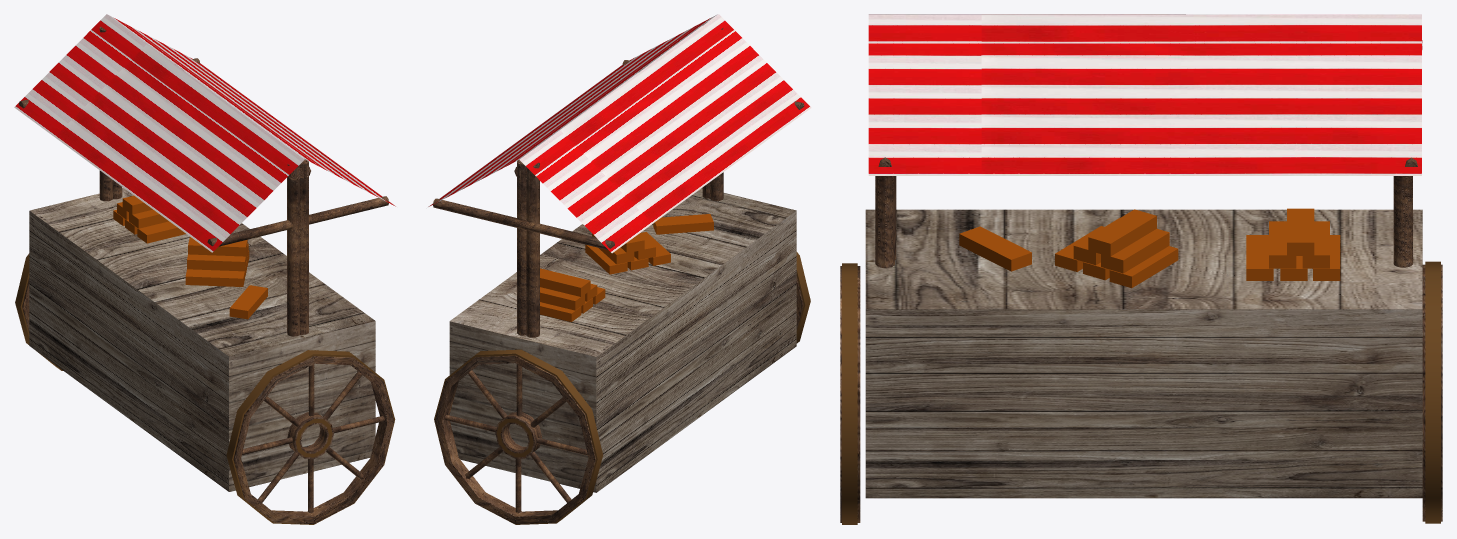
The model's file is Market Building.FBX.
3 views of the same model, side by side, from view 1: azimuth 30°, elevation 25°; view 2: azimuth 150°, elevation 25°; view 3: azimuth 270°, elevation 25° (orthographic). The views are drawn at different scales.
Visible parts, largest first — view 1: Box001, Plane003, Tube001, Plane002, Tube003, Cylinder001, Cylinder007, Cylinder004, Tube002, Box010, Box011, Box014 (+4 smaller); view 2: Box001, Plane003, Tube004, Plane002, Tube006, Cylinder002, Cylinder008, Cylinder003, Tube005, Box014, Box007, Box006 (+3 smaller); view 3: Box001, Plane002, Tube006, Tube003, Box013, Box014, Cylinder004, Cylinder003, Tube004, Tube001, Box012, Box007 (+5 smaller).
Part boxes in pixels (left/top/right/bottom): Box001: left=29, top=187, right=375, bottom=491; Plane003: left=14, top=14, right=304, bottom=252; Tube001: left=233, top=356, right=394, bottom=523; Plane002: left=108, top=15, right=396, bottom=206; Tube003: left=226, top=350, right=395, bottom=524; Cylinder001: left=287, top=164, right=299, bottom=336; Cylinder007: left=207, top=196, right=388, bottom=246; Cylinder004: left=300, top=159, right=308, bottom=334; Tube002: left=287, top=412, right=333, bottom=458; Box010: left=185, top=269, right=244, bottom=286; Box011: left=187, top=254, right=246, bottom=271; Box014: left=229, top=285, right=267, bottom=319; Box001: left=449, top=187, right=796, bottom=492; Plane003: left=519, top=14, right=811, bottom=253; Tube004: left=435, top=355, right=595, bottom=523; Plane002: left=428, top=14, right=717, bottom=206; Tube006: left=434, top=349, right=603, bottom=524; Cylinder002: left=526, top=162, right=539, bottom=337; Cylinder008: left=433, top=198, right=614, bottom=249; Cylinder003: left=517, top=160, right=526, bottom=335; Tube005: left=495, top=412, right=542, bottom=458; Box014: left=653, top=214, right=713, bottom=234; Box007: left=540, top=268, right=590, bottom=296; Box006: left=540, top=287, right=584, bottom=310; Box001: left=865, top=209, right=1422, bottom=498; Plane002: left=868, top=14, right=1421, bottom=175; Tube006: left=1425, top=261, right=1440, bottom=523; Tube003: left=842, top=263, right=857, bottom=524; Box013: left=1088, top=209, right=1156, bottom=256; Box014: left=959, top=226, right=1031, bottom=271; Cylinder004: left=875, top=176, right=894, bottom=268; Cylinder003: left=1393, top=176, right=1412, bottom=267; Tube004: left=1422, top=264, right=1442, bottom=521; Tube001: left=840, top=266, right=860, bottom=522; Box012: left=1101, top=228, right=1169, bottom=273; Box007: left=1287, top=208, right=1314, bottom=255.
Size of what is drawn, in the model's own units: 277 by 512 by 559.
Materials: 5 (3 with a texture image).
